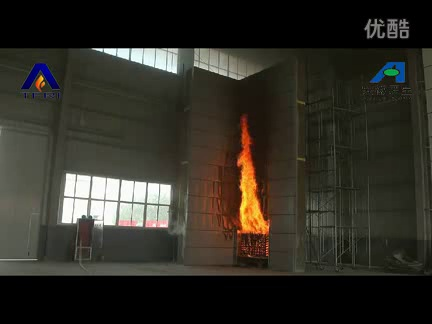fire: (238, 115, 268, 232)
